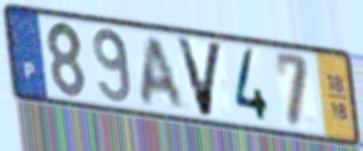4: (233, 45, 272, 126)
7: (274, 50, 315, 130)
8: (45, 19, 88, 100)
9: (91, 26, 134, 106)
A: (138, 34, 187, 112)
V: (173, 34, 226, 120)
